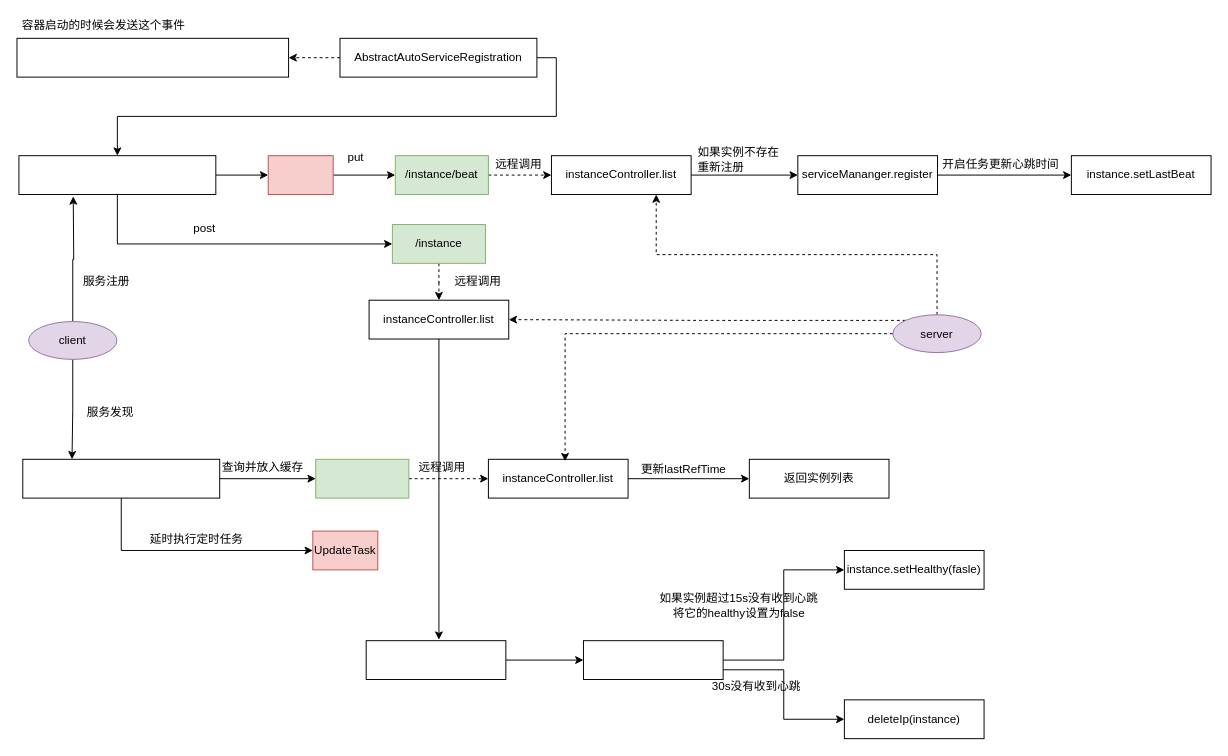
The diagram is 1228 pixels wide and 756 high, and some of its shapes have lost their labels. The shapes that lost their labels are listed below. From the top down, each one's centre as x and y in pixels, then its label:
At [152,57]: "ApplicationListener<WebServerInitializedEvent>".
At [117,174]: "NamingService.registerInstance".
At [300,174]: "BeatTask".
At [121,478]: "NamingService.getAllInstance".
At [362,478]: "/instance/list".
At [435,659]: "createEmptyService".
At [652,659]: "ClientBeatCheckTask".
